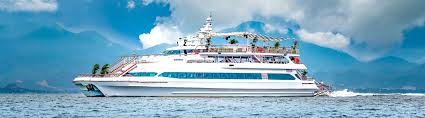tau_dansu: (80, 25, 325, 108)
